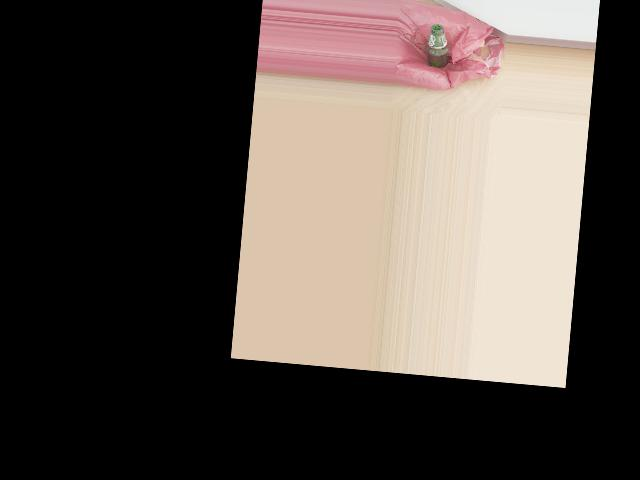beer: (423, 23, 452, 69)
